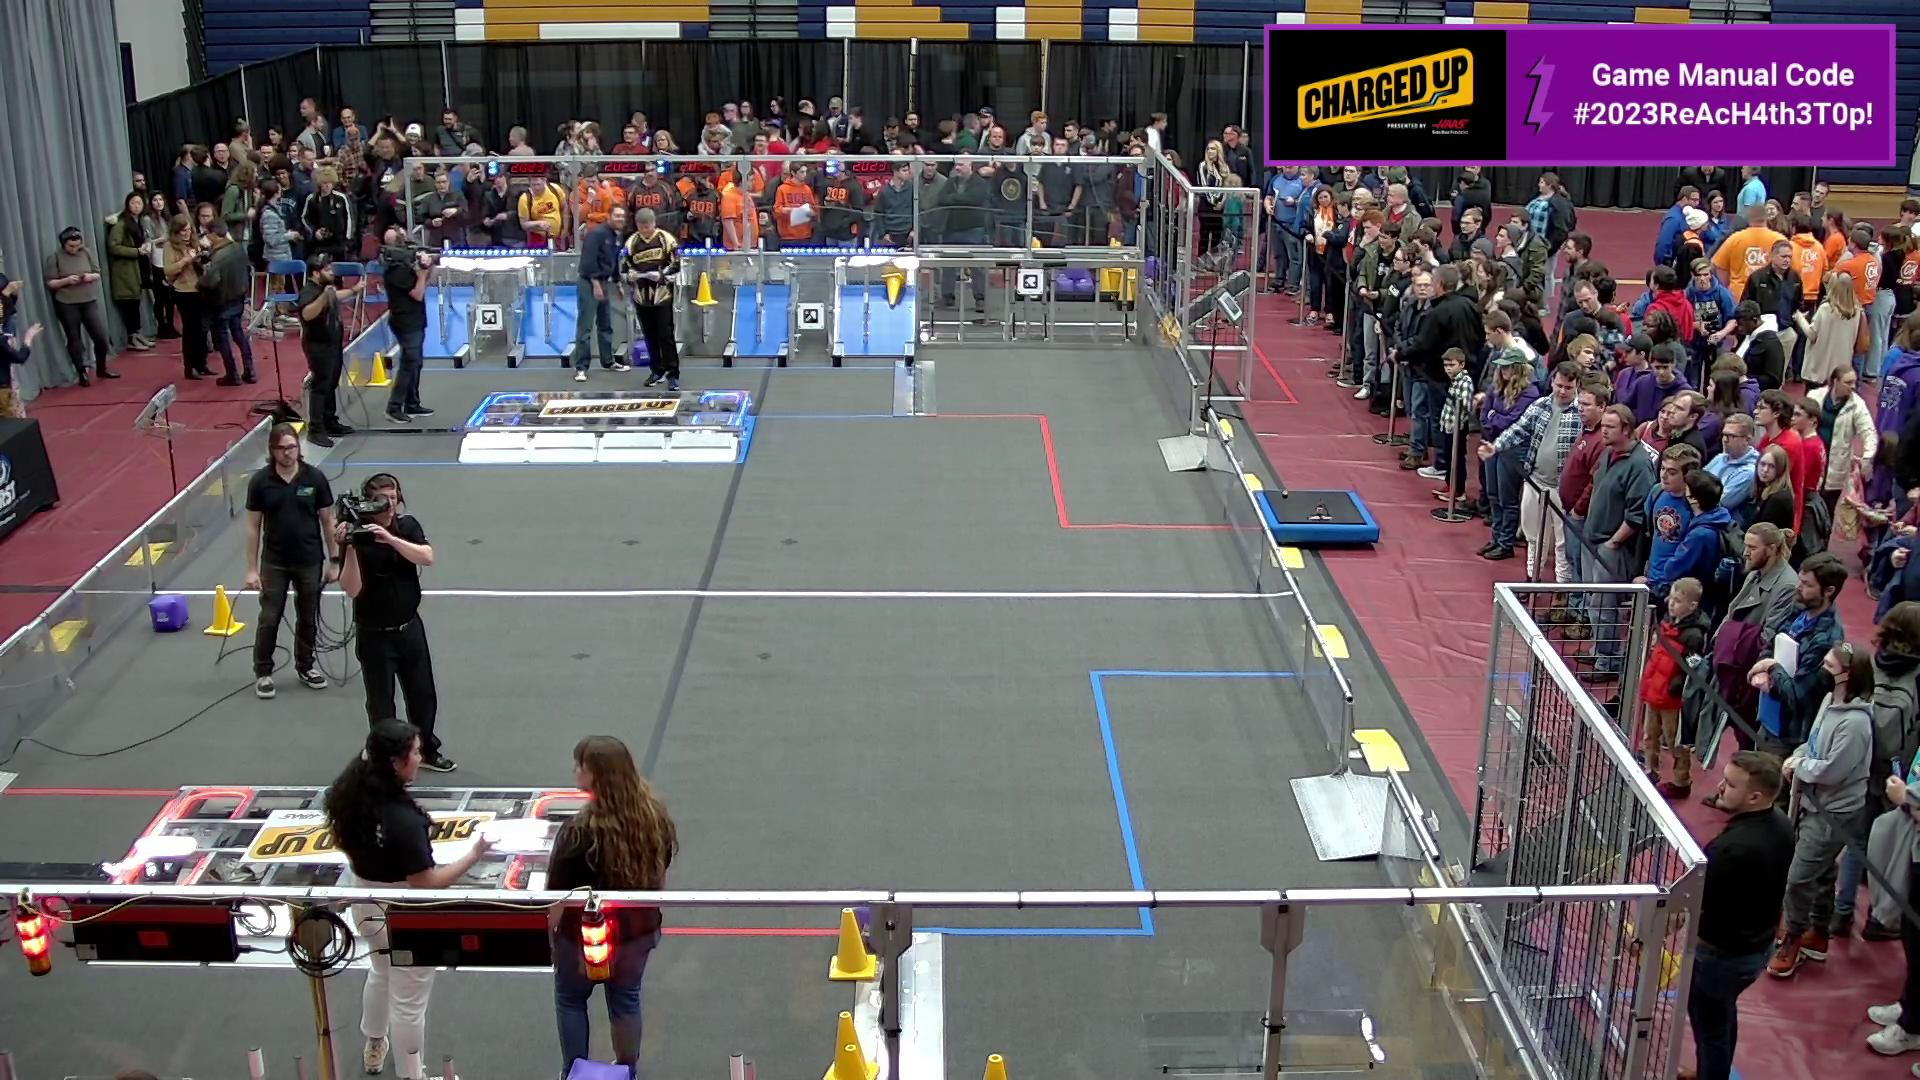robot: (1253, 483, 1379, 549)
